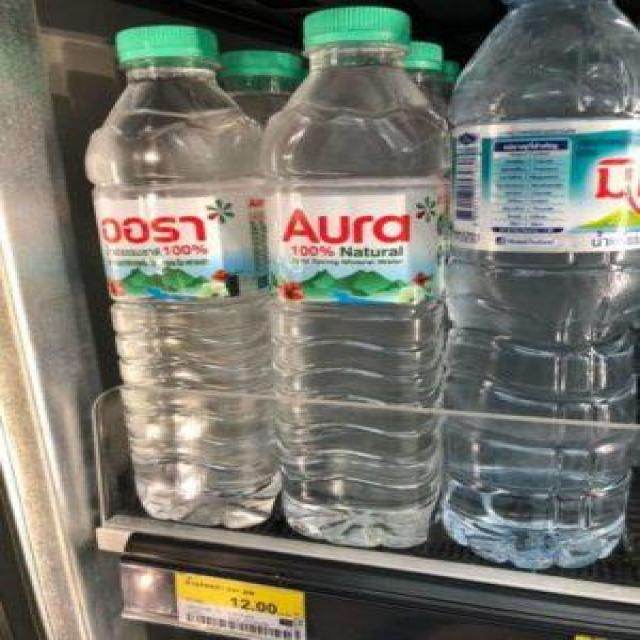bottle: (249, 0, 472, 619), (84, 0, 280, 630), (1, 4, 90, 623)
